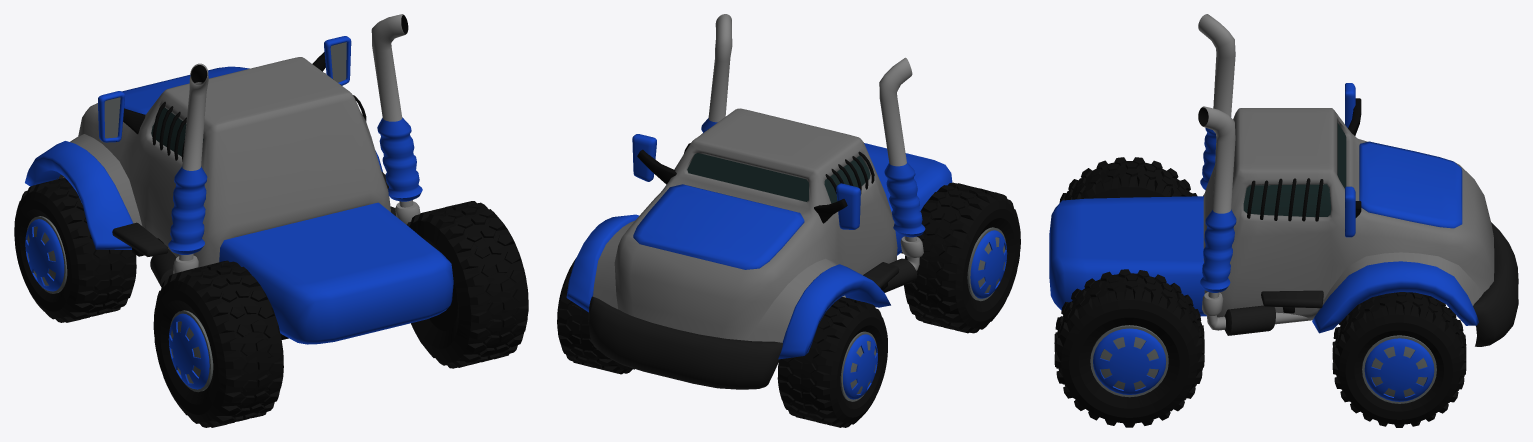
The model's file is Truck.fbx.
3 views of the same model, side by side, from view 1: azimuth 30°, elevation 25°; view 2: azimuth 150°, elevation 25°; view 3: azimuth 270°, elevation 25° (orthographic). The views are drawn at different scales.
Parts seen in each view (by area): view 1: Truck, TruckBackWheel, TruckFrontLeftWheel; view 2: Truck, TruckBackWheel, TruckFrontLeftWheel, TruckFrontRightWheel; view 3: Truck, TruckBackWheel, TruckFrontRightWheel.
Part boxes in pixels (x1,y1,x2,y2): Truck: (25,14,453,344); TruckBackWheel: (153,201,528,427); TruckFrontLeftWheel: (14,177,136,322); Truck: (566,14,952,389); TruckBackWheel: (901,182,1020,333); TruckFrontLeftWheel: (777,297,887,427); TruckFrontRightWheel: (557,258,634,374); Truck: (1049,14,1518,346); TruckBackWheel: (1054,157,1204,427); TruckFrontRightWheel: (1332,292,1466,427).
Bounding box in the file's own units: 293 × 278 × 393.
